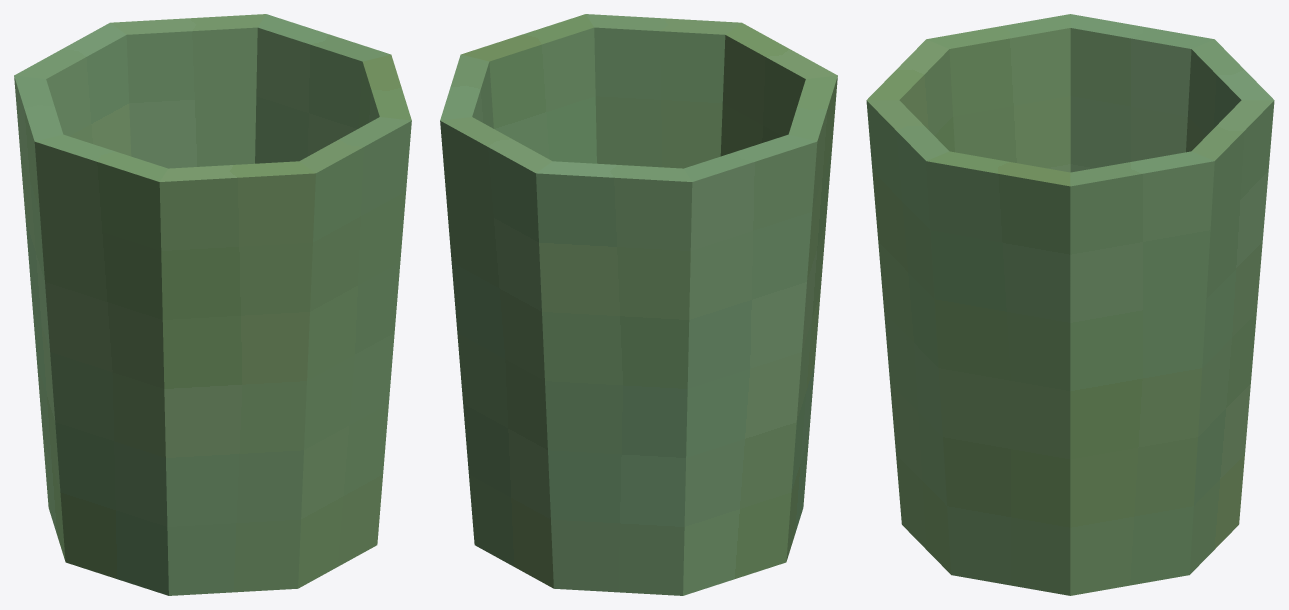
The model's file is ToothbrushHolder01.glb.
The picture shows the model from 3 angles, left to right: view 1: azimuth 30°, elevation 25°; view 2: azimuth 150°, elevation 25°; view 3: azimuth 270°, elevation 25°; orthographic projection.
Parts seen in each view (by area): view 1: ToothbrushHolder01; view 2: ToothbrushHolder01; view 3: ToothbrushHolder01.
Part boxes in pixels (box(x1,y1,x2,y2)): ToothbrushHolder01: box(14, 14, 411, 595); ToothbrushHolder01: box(440, 14, 837, 595); ToothbrushHolder01: box(866, 14, 1274, 595).
Size of the model in its own units: 0.1394 by 0.16 by 0.1394.
1 material, 1 textured.
